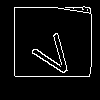V: (25, 25, 80, 82)
